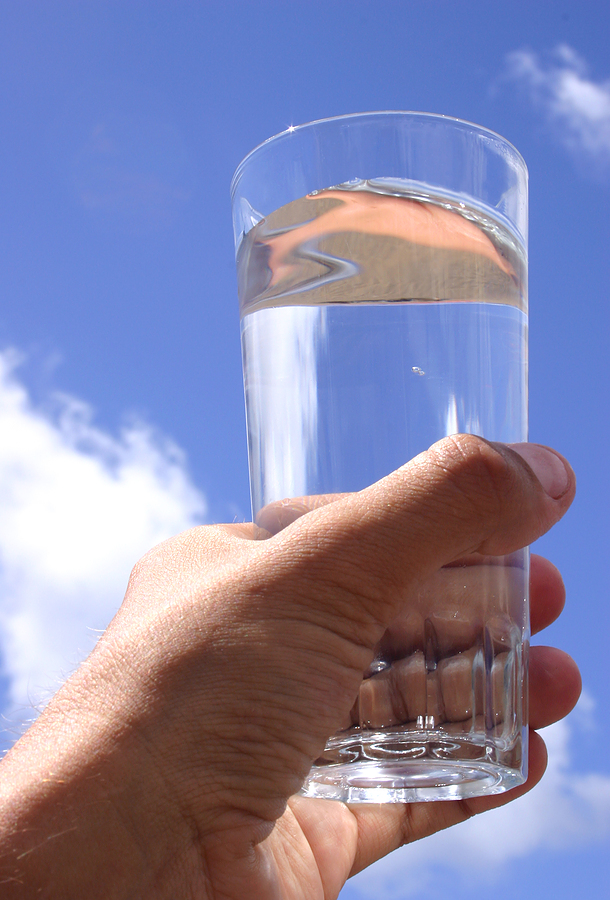glass of water: (236, 116, 526, 803)
